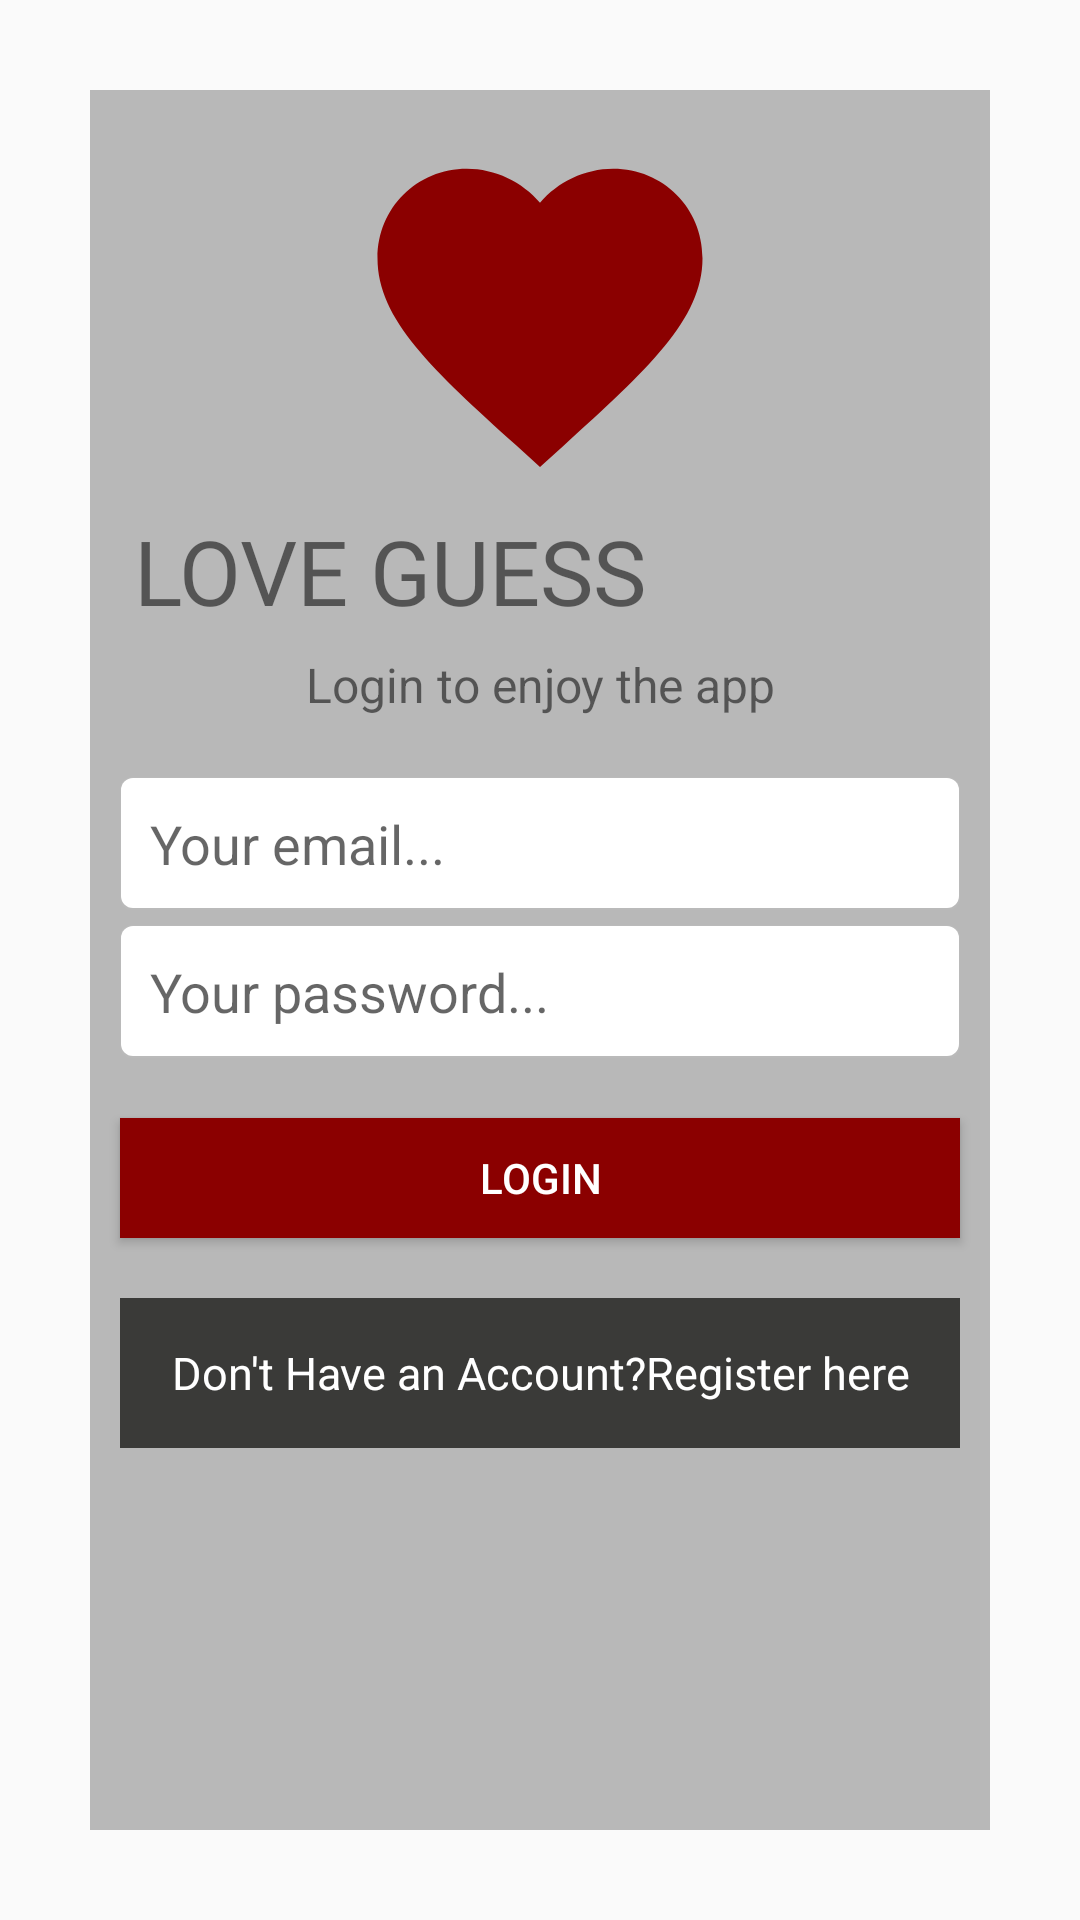

Icons on this 1080px x 1920px Android screen, each with the point to tap as [x,y]:
favorite: [540,317]
